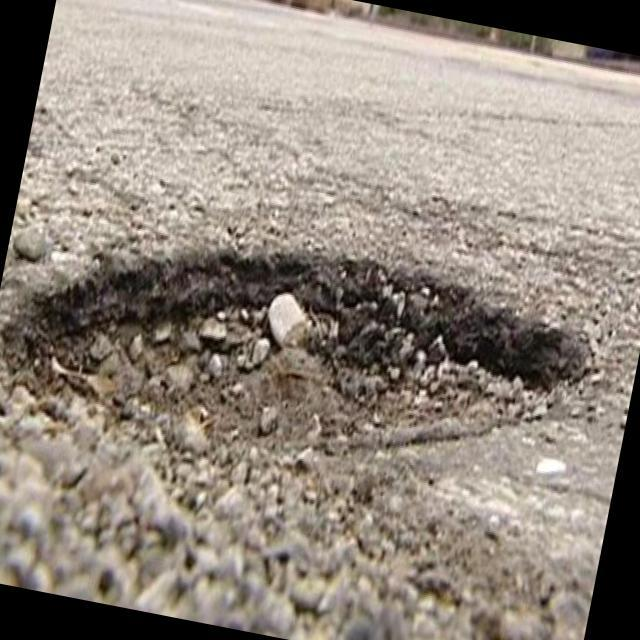Pothole: (0, 182, 609, 580)
